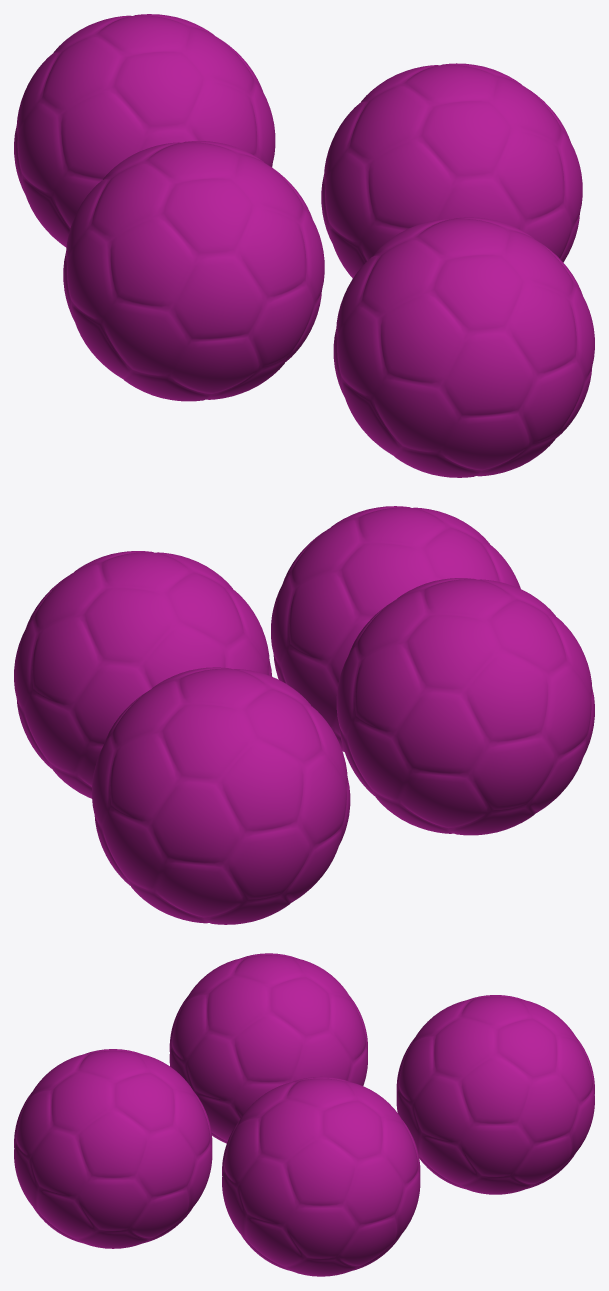
The model's file is balls.obj.
The picture shows the model from 3 angles, top to bottom: view 1: azimuth 30°, elevation 25°; view 2: azimuth 150°, elevation 25°; view 3: azimuth 270°, elevation 25°; orthographic projection. The views are drawn at different scales.
Parts seen in each view (by area): view 1: Icosphere001, Icosphere002, Icosphere003, Icosphere004; view 2: Icosphere001, Icosphere004, Icosphere003, Icosphere002; view 3: Icosphere003, Icosphere002, Icosphere004, Icosphere001.
Part boxes in pixels (box(x1,y1,x2,y2)): Icosphere001: box(63, 141, 324, 401); Icosphere002: box(333, 217, 594, 477); Icosphere003: box(321, 63, 582, 278); Icosphere004: box(14, 14, 275, 247); Icosphere001: box(336, 578, 594, 835); Icosphere004: box(92, 667, 350, 924); Icosphere003: box(14, 551, 272, 798); Icosphere002: box(271, 506, 520, 751); Icosphere003: box(222, 1076, 420, 1276); Icosphere002: box(14, 1049, 212, 1248); Icosphere004: box(396, 995, 594, 1194); Icosphere001: box(169, 953, 367, 1143).
Bounding box in the file's own units: 19.46 × 10.07 × 24.69.
